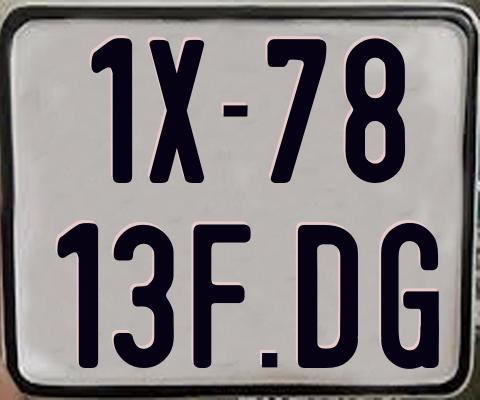1: (90, 38, 136, 186), (55, 222, 97, 372)
3: (113, 223, 178, 366)
7: (267, 37, 330, 185)
8: (343, 36, 406, 187)
D: (295, 225, 357, 374)
F: (193, 221, 256, 366)
G: (380, 220, 440, 367)
X: (147, 39, 202, 182)
